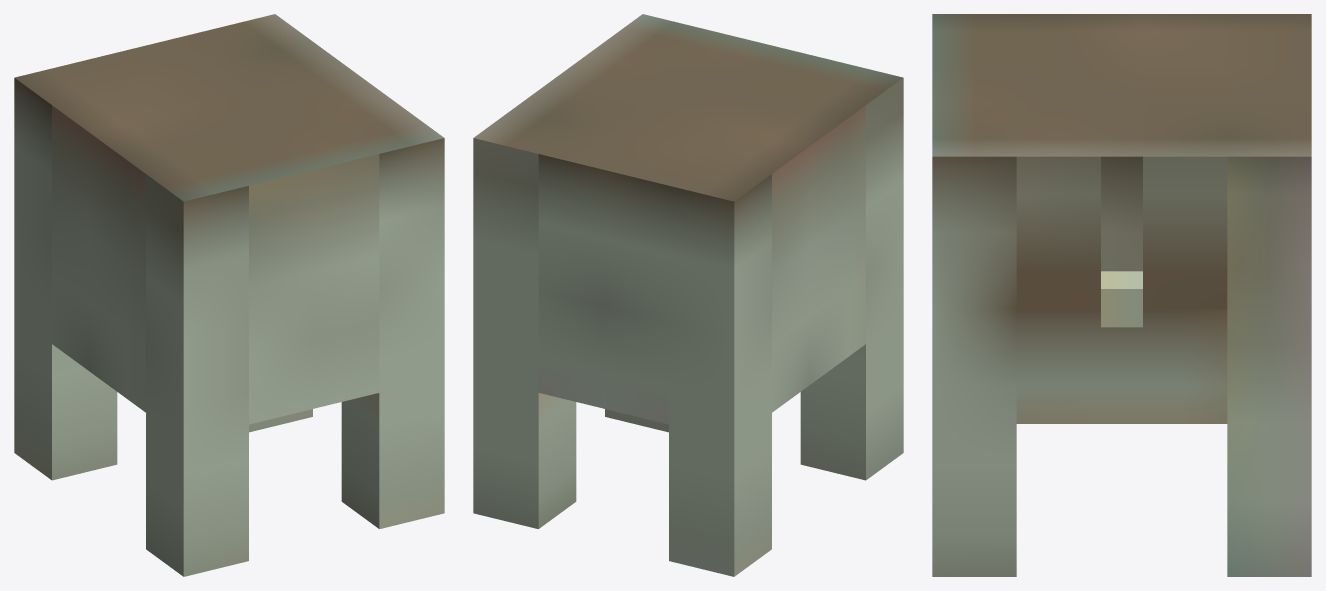
Rendered from CabinetBedSide_01.fbx.
3 views of the same model, side by side, from view 1: azimuth 30°, elevation 25°; view 2: azimuth 150°, elevation 25°; view 3: azimuth 270°, elevation 25° (orthographic). The views are drawn at different scales.
Visible parts, largest first — view 1: CabinetBedSide_01; view 2: CabinetBedSide_01; view 3: CabinetBedSide_01.
Boxes of the visible parts, x1,y1,x2,y2 form: CabinetBedSide_01: [14, 14, 444, 576]; CabinetBedSide_01: [473, 14, 903, 576]; CabinetBedSide_01: [932, 14, 1311, 576].
Bounding box in the file's own units: 45 × 45 × 55.
1 material, 1 textured.
